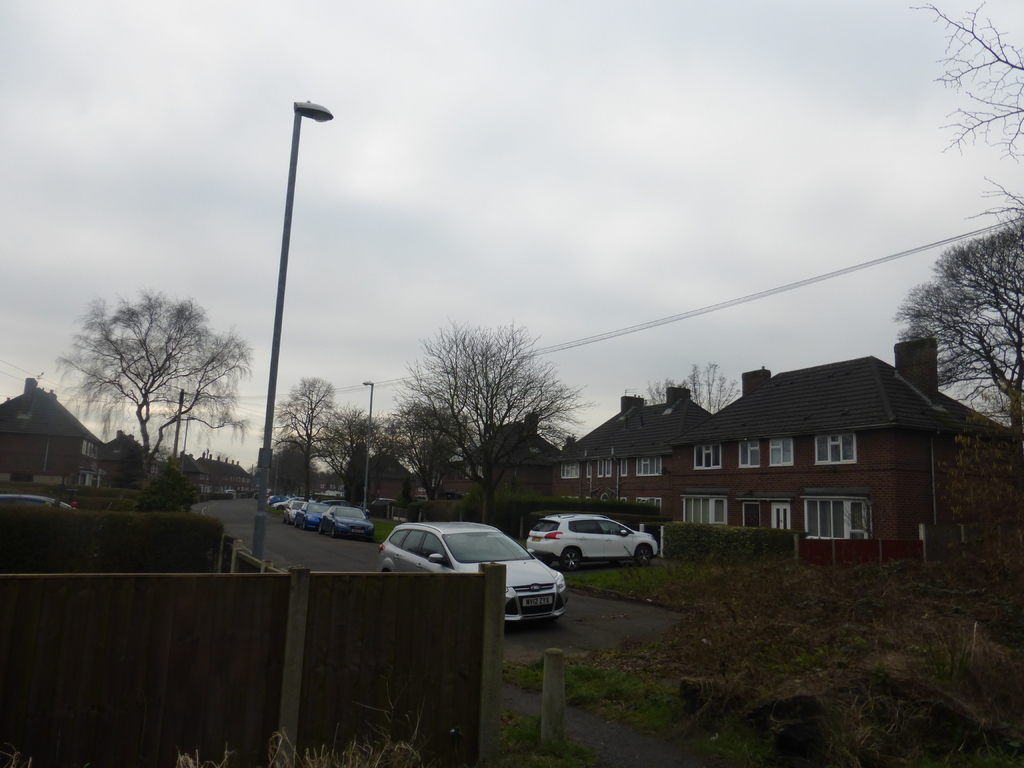Car: (377, 519, 573, 624), (533, 520, 666, 584), (254, 485, 376, 540), (0, 490, 80, 510), (366, 494, 403, 514)
